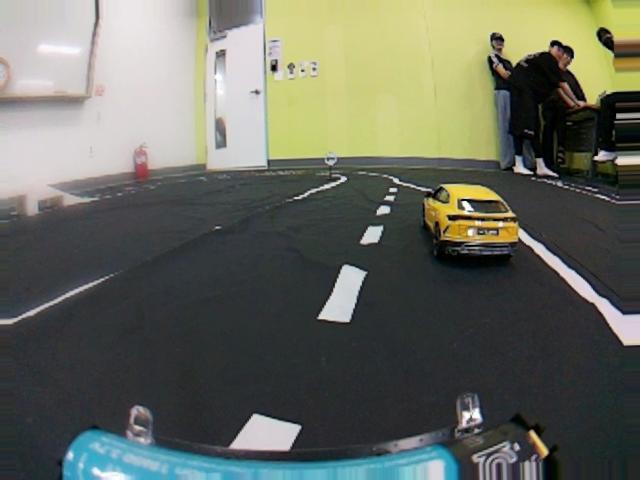car: (419, 176, 534, 262)
left: (0, 222, 639, 475)
